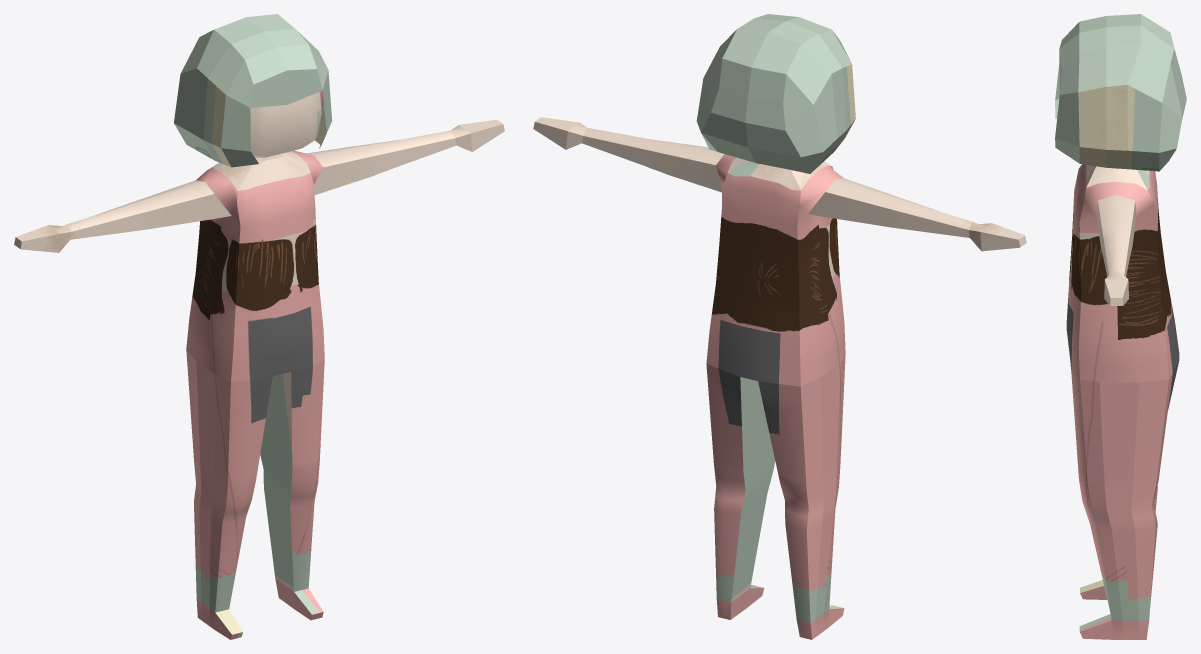
File: Customer2.fbx
3 views of the same model, side by side, from view 1: azimuth 30°, elevation 25°; view 2: azimuth 150°, elevation 25°; view 3: azimuth 270°, elevation 25° (orthographic).
Visible parts, largest first — view 1: pPlane18; view 2: pPlane18; view 3: pPlane18.
Part boxes in pixels (<box>): pPlane18: <box>14,14,504,639</box>; pPlane18: <box>533,14,1026,639</box>; pPlane18: <box>1055,14,1186,639</box>.
Bounding box in the file's own units: 2.15 × 2.51 × 0.5064.
